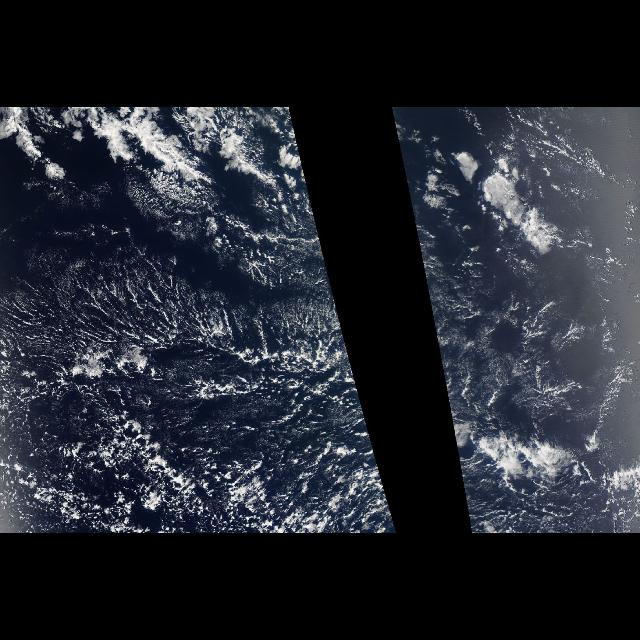Gravel: (5, 281, 389, 533)
Sugar: (3, 221, 339, 477)
